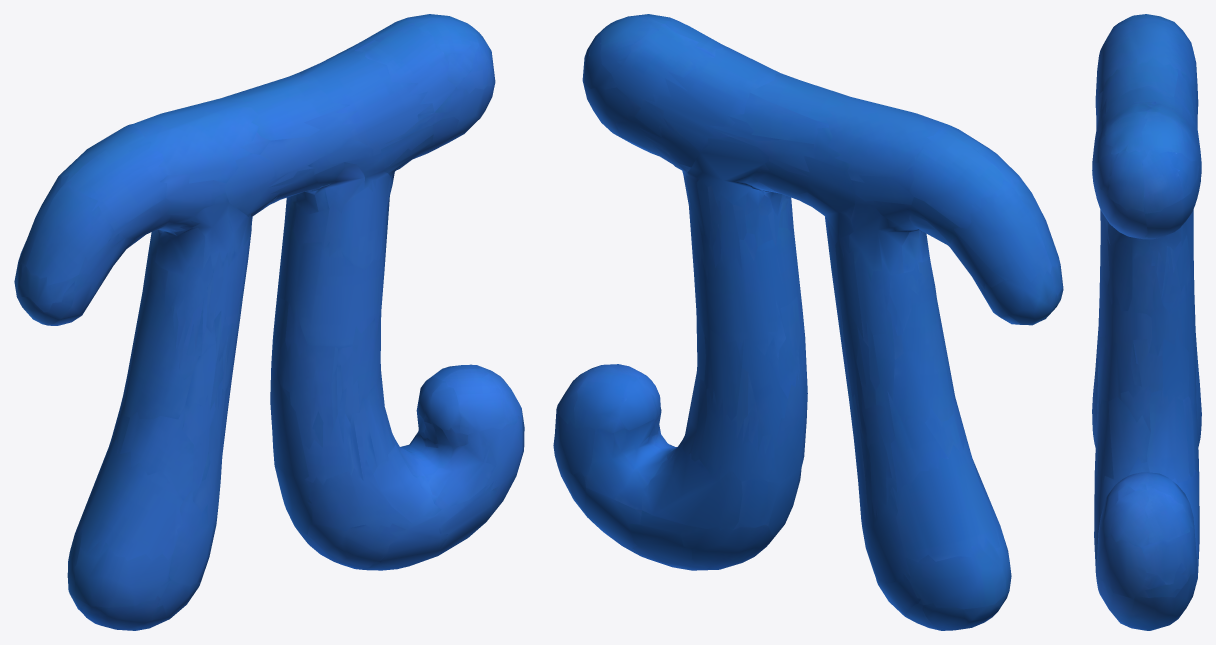
3 views of the same model, side by side, from view 1: azimuth 30°, elevation 25°; view 2: azimuth 150°, elevation 25°; view 3: azimuth 270°, elevation 25° (orthographic). The views are drawn at different scales.
Parts seen in each view (by area): view 1: Mesh_0; view 2: Mesh_0; view 3: Mesh_0.
Part boxes in pixels (box(x1,y1,x2,y2)): Mesh_0: box(14, 14, 524, 630); Mesh_0: box(553, 14, 1063, 630); Mesh_0: box(1092, 14, 1201, 630).
Size of the model in its own units: 1.85 by 1.9 by 0.3681.
Materials: 1 (1 with a texture image).
